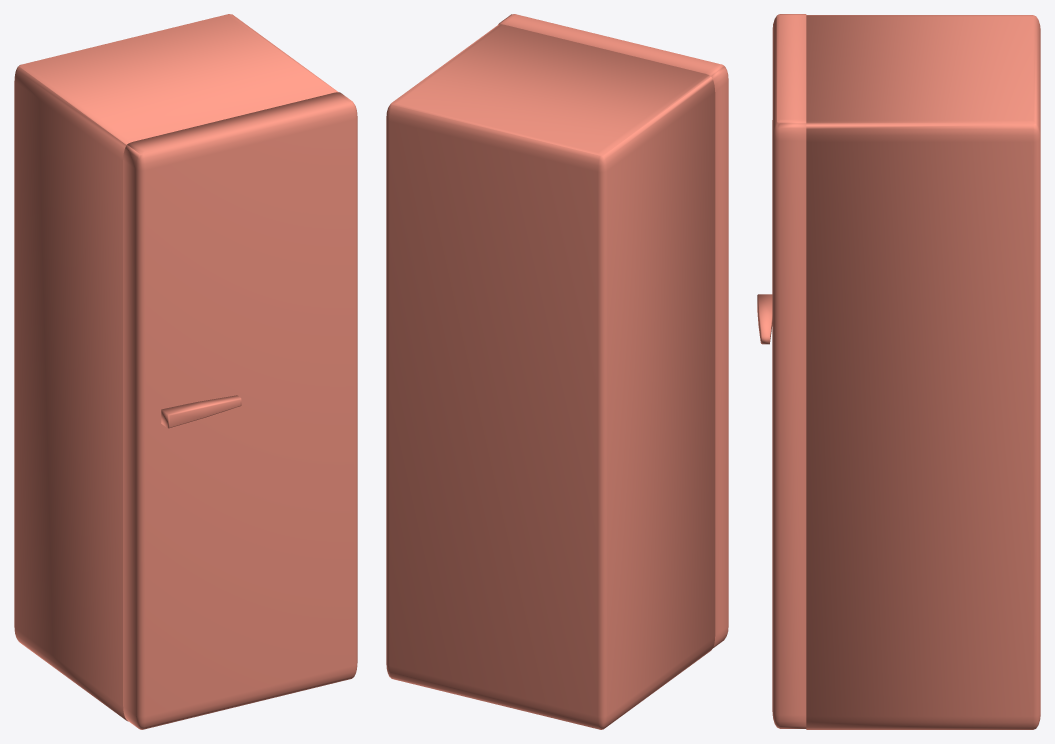
The model's file is FridgAnim 2.fbx.
3 renders of one model, left to right at view 1: azimuth 30°, elevation 25°; view 2: azimuth 150°, elevation 25°; view 3: azimuth 270°, elevation 25°, orthographic. The views are drawn at different scales.
Parts seen in each view (by area): view 1: Firdge door, Fridge.001; view 2: Fridge.001, Firdge door; view 3: Fridge.001, Firdge door.
Boxes of the visible parts, bbox=[...] form: Firdge door: bbox=[123, 92, 357, 729]; Fridge.001: bbox=[14, 14, 338, 721]; Fridge.001: bbox=[386, 24, 715, 729]; Firdge door: bbox=[498, 14, 728, 647]; Fridge.001: bbox=[806, 15, 1040, 729]; Firdge door: bbox=[757, 14, 806, 728].
Bounding box in the file's own units: 60.04 × 150 × 63.43.
